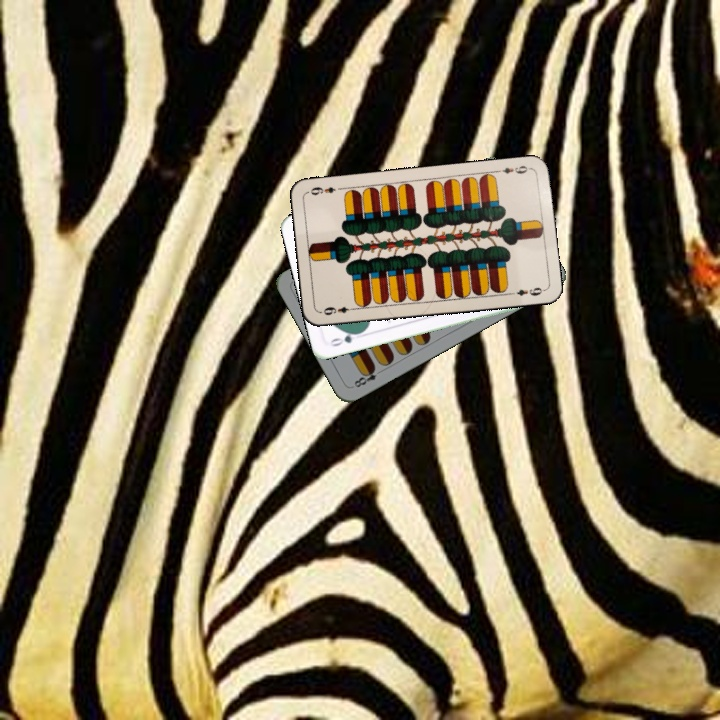E8: (348, 363, 386, 390)
E9: (318, 303, 358, 318), (493, 162, 533, 176)
GO: (326, 328, 365, 349)
